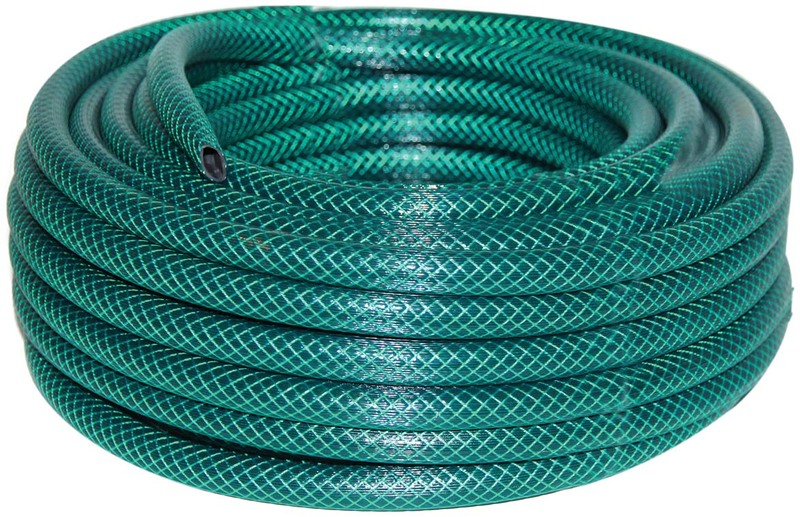Nonrec_Tangler: (1, 10, 789, 505)
